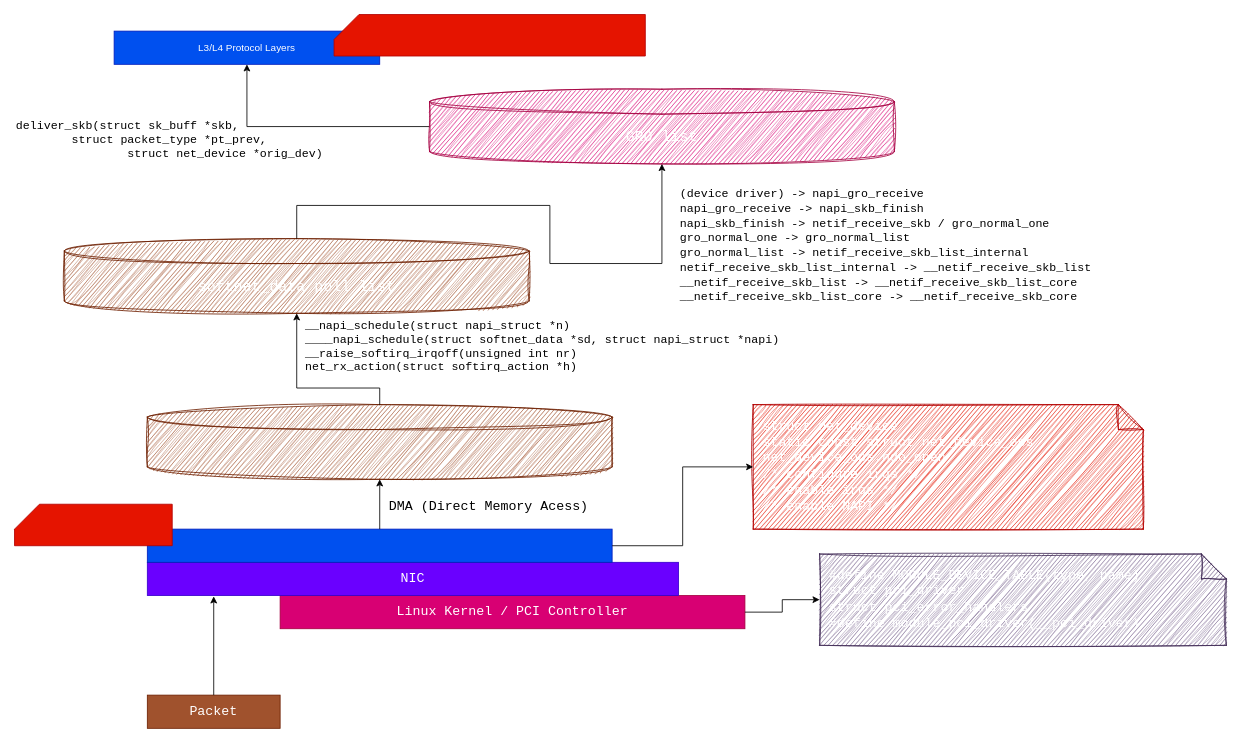
Image size: 1241x743. Some labels were removed from this diagram. The shapes that lost their labels are listed below. From the top down, each one's centre as x and y in pixels, then its label:
At (x=489, y=35): "Generic XDP / IPVS / nft".
At (x=379, y=441): "Ring Buffer (RAM Memory)".
At (x=93, y=524): "Native XDP".
At (x=379, y=545): "Device Driver".
